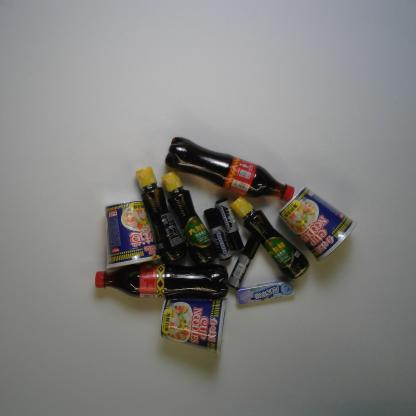Candy: (236, 279, 296, 305)
Drink: (164, 136, 295, 202), (94, 262, 229, 299)
Instant Noodles: (278, 186, 358, 262), (104, 199, 162, 269), (160, 297, 228, 356)
Seasoner: (230, 195, 310, 280), (160, 170, 217, 266), (134, 167, 188, 264)
Stationery: (227, 234, 261, 290), (203, 207, 233, 261), (215, 198, 244, 252)
